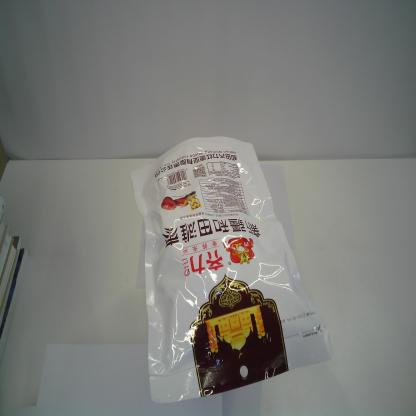Dried Food: (131, 136, 334, 404)
